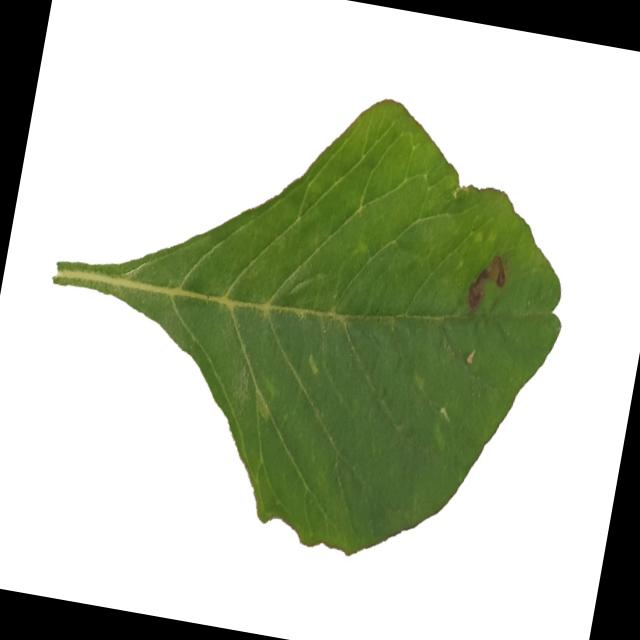Medicinal-Arive Dantu: (16, 46, 594, 586)
